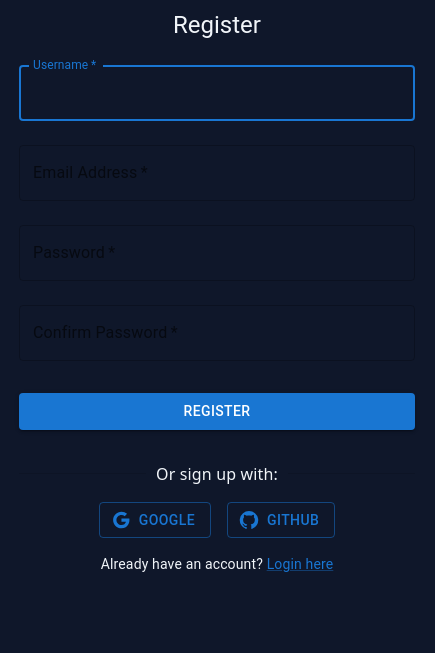
Test case: RegisterPage › surfaces the API failure when the API rejects with an Error with a message
The width and height of the screenshot is (435, 653).
In the field labelled "Username *": coordinates (217, 93) top-left (19, 65), bottom-right (415, 121), type "Grace"
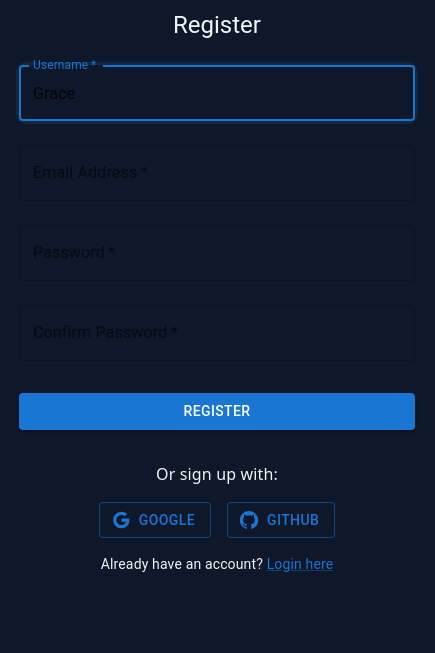
In the field labelled "Email Address *": coordinates (217, 173) top-left (19, 145), bottom-right (415, 201), type "grace@example.com"
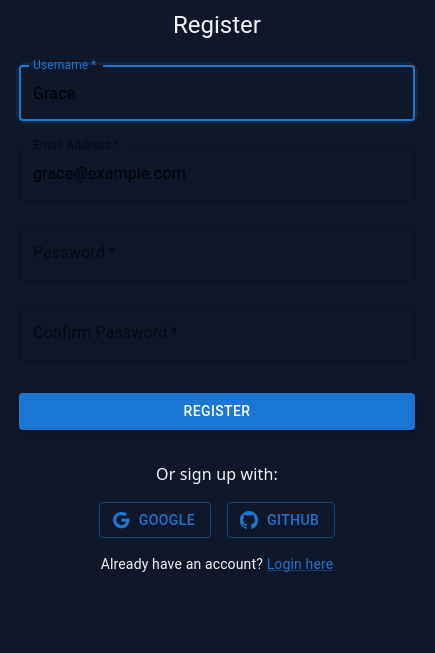
In the password field labelled "Password *": coordinates (217, 253) top-left (19, 225), bottom-right (415, 281), type "pw-one"
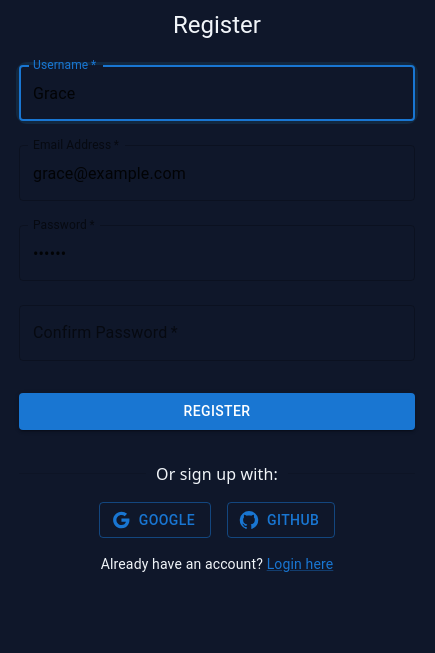
In the password field labelled "Confirm Password *": coordinates (217, 333) top-left (19, 305), bottom-right (415, 361), type "pw-one"
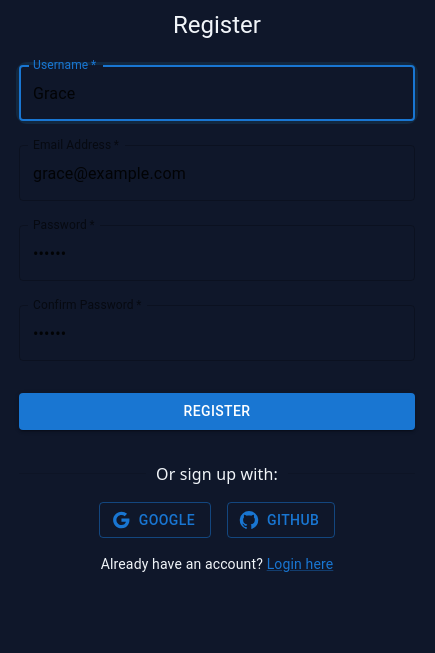
Click the button "Register": coordinates (217, 411) top-left (19, 393), bottom-right (415, 430)
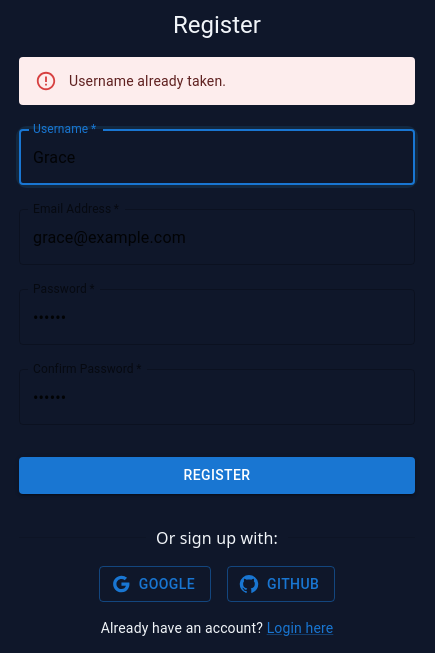
Expected: the message reads "Username already taken.", top-left (69, 73), bottom-right (226, 89)
